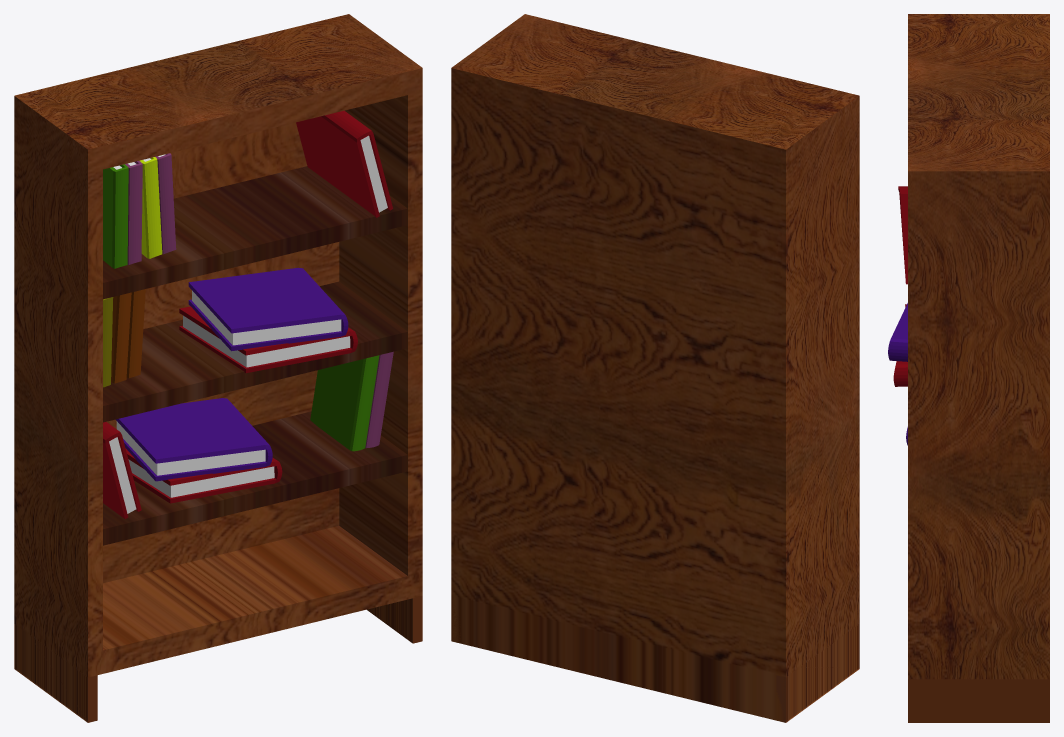
File: regal_ksiazki.fbx
3 views of the same model, side by side, from view 1: azimuth 30°, elevation 25°; view 2: azimuth 150°, elevation 25°; view 3: azimuth 270°, elevation 25° (orthographic). The views are drawn at different scales.
Visible parts, largest first — view 1: Sześcian.001; view 2: Sześcian.001; view 3: Sześcian.001.
Part boxes in pixels (left/top/right/bottom): Sześcian.001: left=14, top=14, right=422, bottom=722; Sześcian.001: left=451, top=14, right=859, bottom=722; Sześcian.001: left=888, top=14, right=1049, bottom=722.
Bounding box in the file's own units: 524 × 858 × 228.
17 materials, 2 textured.
